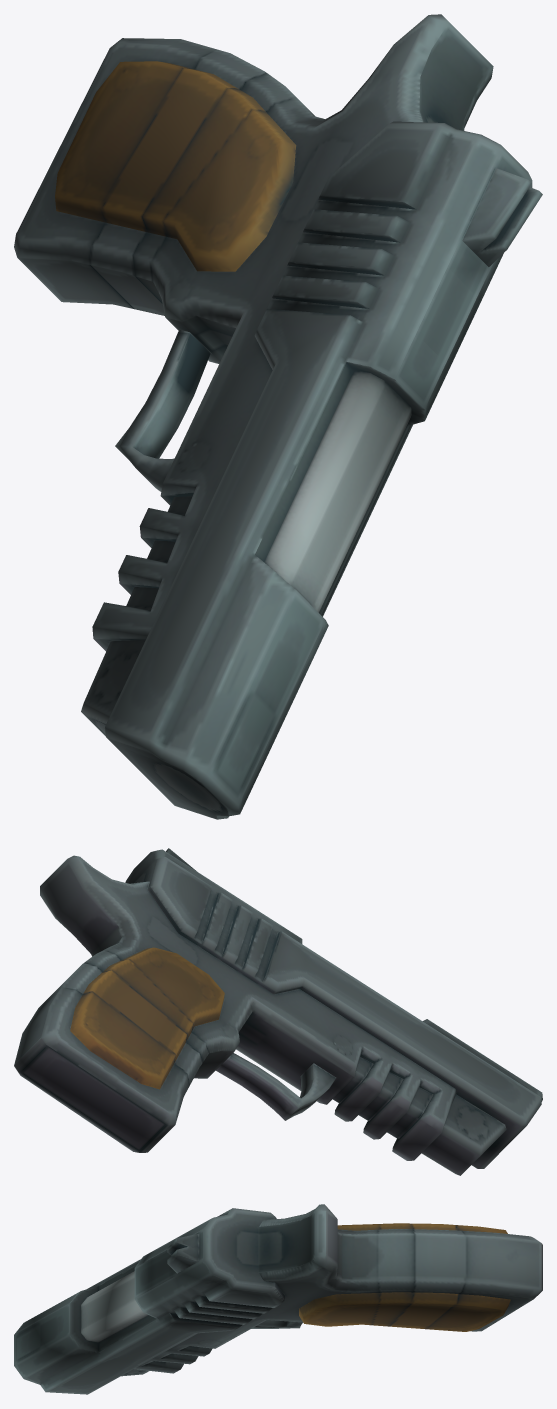
File: Dog_Pistol.fbx
3 renders of one model, top to bottom at view 1: azimuth 30°, elevation 25°; view 2: azimuth 150°, elevation 25°; view 3: azimuth 270°, elevation 25°, orthographic. The views are drawn at different scales.
Parts seen in each view (by area): view 1: pistol; view 2: pistol; view 3: pistol.
Part boxes in pixels (bbox=[...]): pistol: bbox=[14, 14, 542, 819]; pistol: bbox=[14, 848, 542, 1175]; pistol: bbox=[14, 1204, 542, 1394].
Size of the model in its own units: 36.94 by 32.5 by 48.74.
Materials: 1 (1 with a texture image).
